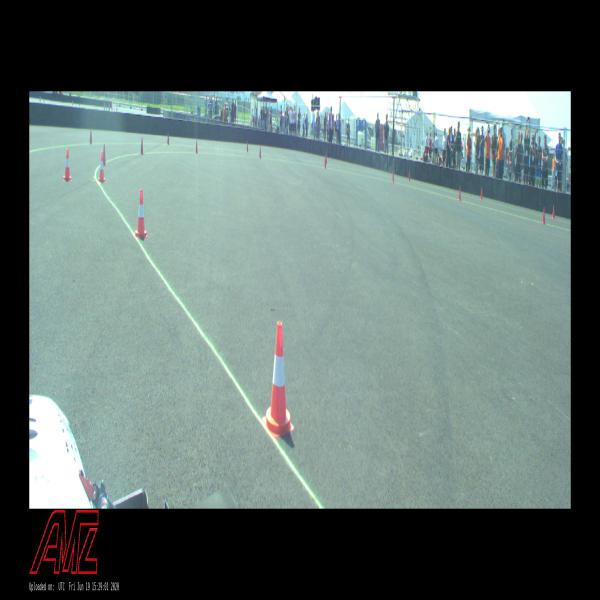orange_cone: (262, 321, 294, 437), (136, 190, 148, 239), (64, 149, 72, 181), (98, 152, 105, 183)
unknown_cone: (103, 144, 106, 166), (140, 138, 144, 154), (542, 207, 545, 224), (458, 186, 461, 201), (195, 140, 198, 153), (552, 205, 555, 218), (480, 187, 483, 200), (90, 129, 92, 144), (392, 169, 394, 183), (324, 156, 326, 168), (259, 147, 261, 158), (408, 170, 410, 181), (168, 131, 169, 145), (247, 140, 248, 152), (326, 153, 327, 164)
